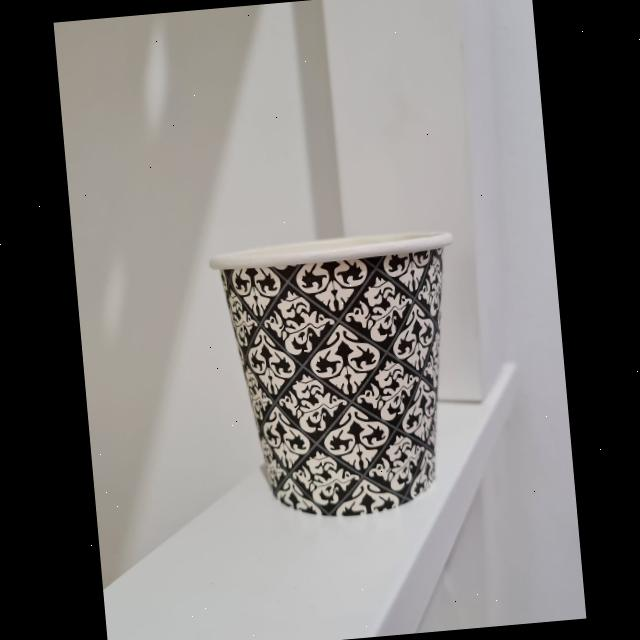trash: (190, 222, 474, 534)
